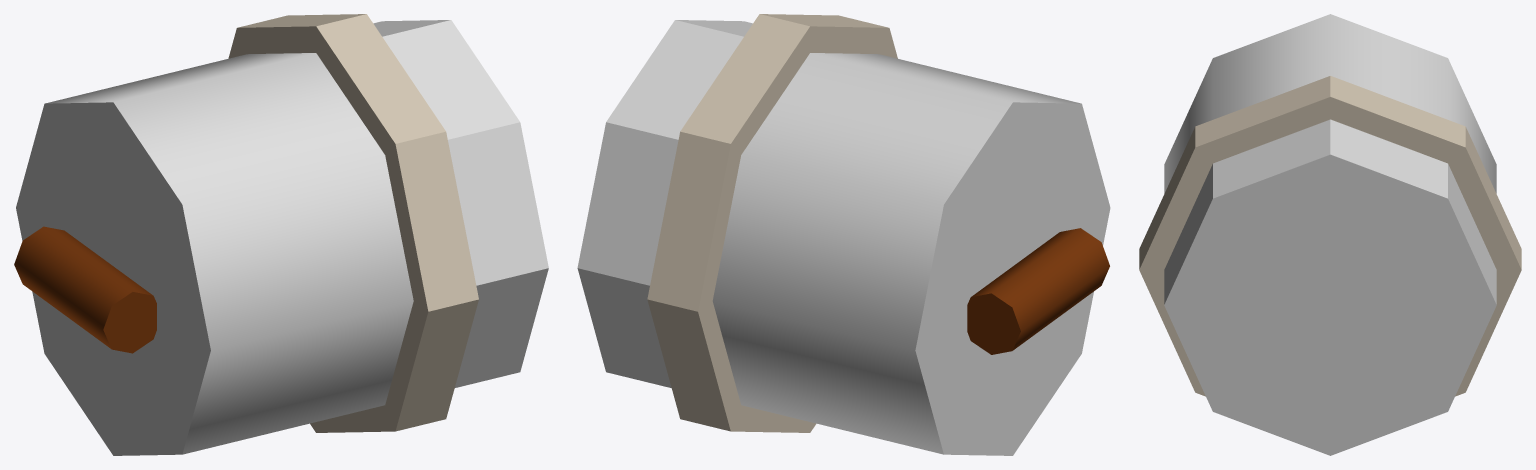
The model's file is Canon_Poignée.FBX.
3 renders of one model, left to right at view 1: azimuth 30°, elevation 25°; view 2: azimuth 150°, elevation 25°; view 3: azimuth 270°, elevation 25°, orthographic. The views are drawn at different scales.
Parts seen in each view (by area): view 1: Cylinder112, Cylinder111; view 2: Cylinder112, Cylinder111; view 3: Cylinder112.
Boxes of the visible parts, left/top/right/bottom form: Cylinder112: left=16, top=14, right=548, bottom=455; Cylinder111: left=14, top=226, right=156, bottom=353; Cylinder112: left=577, top=14, right=1110, bottom=455; Cylinder111: left=967, top=228, right=1109, bottom=354; Cylinder112: left=1139, top=14, right=1521, bottom=455.
Bounding box in the file's own units: 91.26 × 90.55 × 90.55.
